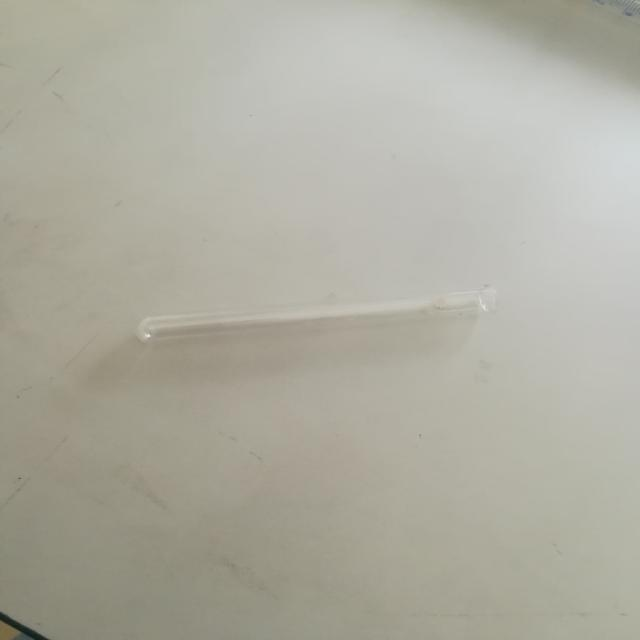Test_Tube: (112, 263, 526, 368)
